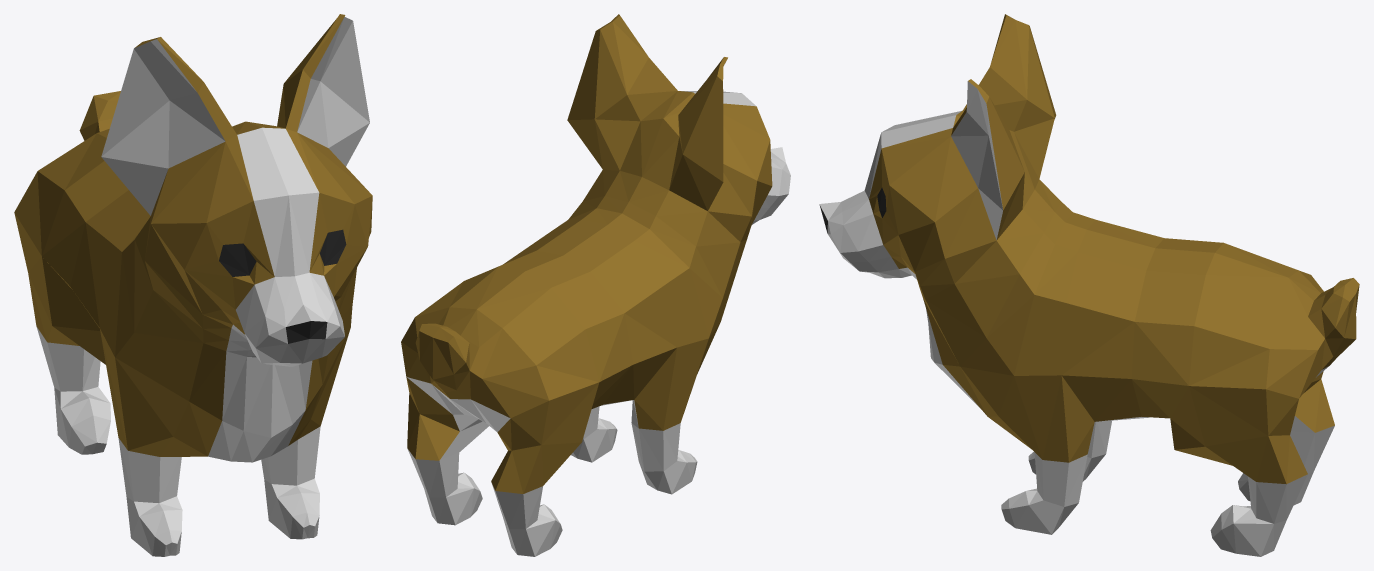
The model's file is corgi6.dae.
3 renders of one model, left to right at view 1: azimuth 30°, elevation 25°; view 2: azimuth 150°, elevation 25°; view 3: azimuth 270°, elevation 25°, orthographic. The views are drawn at different scales.
Visible parts, largest first — view 1: Cylinder; view 2: Cylinder; view 3: Cylinder.
Boxes of the visible parts, bbox=[...] form: Cylinder: bbox=[14, 14, 372, 556]; Cylinder: bbox=[401, 14, 790, 556]; Cylinder: bbox=[819, 14, 1359, 556].
Bounding box in the file's own units: 2.2 × 4.23 × 3.88.
